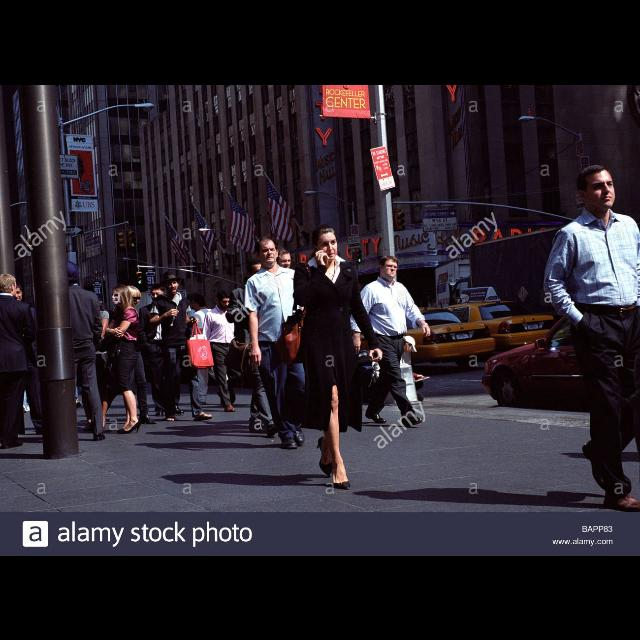head: (576, 165, 616, 208), (312, 224, 338, 262), (254, 237, 280, 266), (56, 260, 78, 284), (379, 254, 399, 278), (120, 284, 140, 308), (274, 247, 292, 271), (0, 272, 18, 296), (246, 260, 264, 282), (164, 275, 180, 295), (151, 286, 167, 302), (192, 294, 208, 310), (10, 284, 24, 302), (216, 292, 230, 310), (86, 292, 100, 308)
person: (270, 220, 384, 492), (240, 232, 320, 450), (344, 252, 434, 430), (44, 256, 110, 444), (223, 254, 289, 438), (253, 244, 313, 428), (146, 269, 214, 423), (0, 279, 54, 443), (98, 283, 158, 427), (134, 282, 186, 418), (0, 270, 38, 452), (73, 288, 115, 432), (194, 288, 242, 414), (182, 292, 230, 404)
